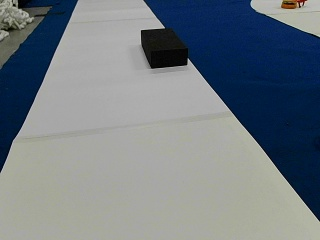block: (140, 28, 186, 67)
